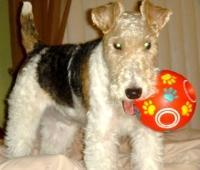wire-haired_fox_terrier: (0, 0, 172, 169)
